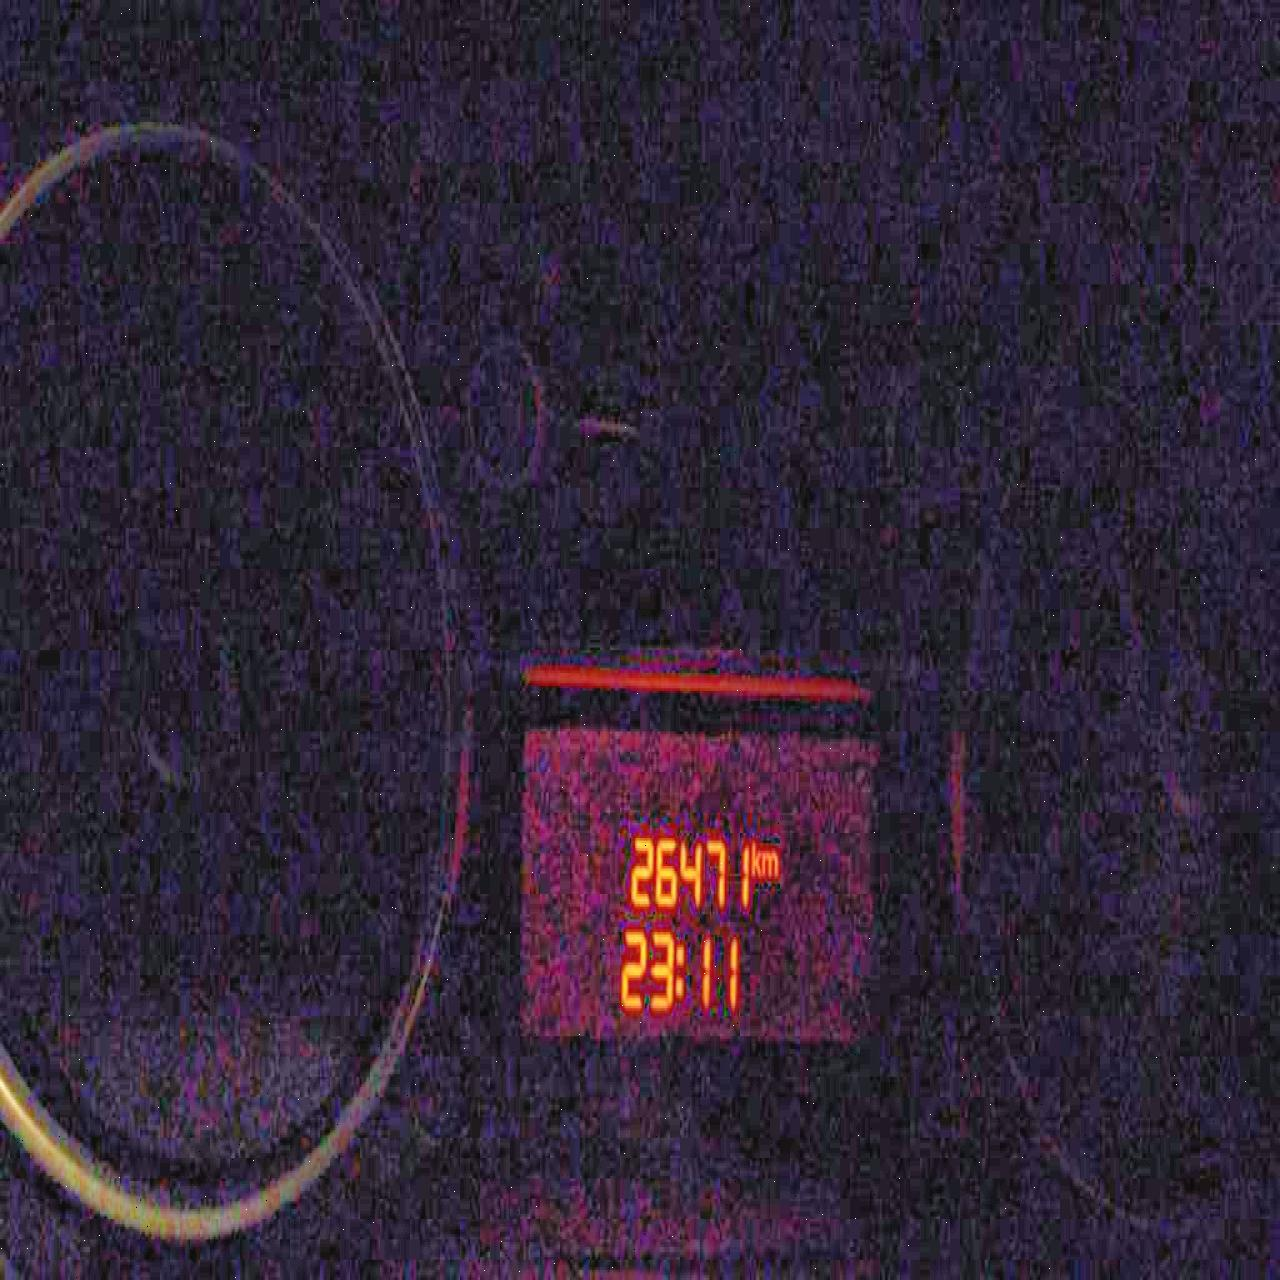1: (701, 932, 714, 1008), (727, 938, 738, 1010), (740, 840, 749, 906)
2: (619, 925, 645, 1010), (628, 831, 654, 910)
3: (649, 925, 673, 1010)
4: (678, 838, 701, 904)
6: (655, 833, 676, 907)
7: (706, 838, 726, 907)
X: (674, 934, 686, 1001), (761, 845, 778, 878), (750, 838, 760, 879)
odometer: (576, 744, 825, 1074)
